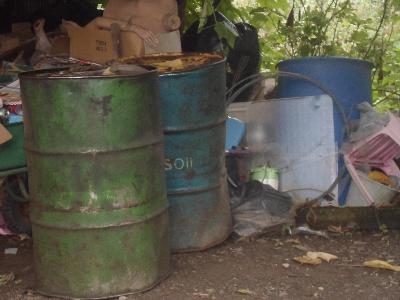bucket: (18, 65, 173, 298), (106, 51, 232, 257)
plastic_bag: (228, 178, 297, 245)
